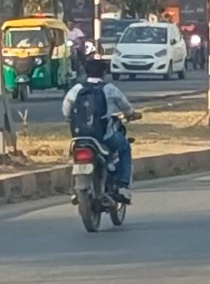BikeWithRider: (57, 54, 145, 234)
NoHelmet: (80, 55, 111, 86)
